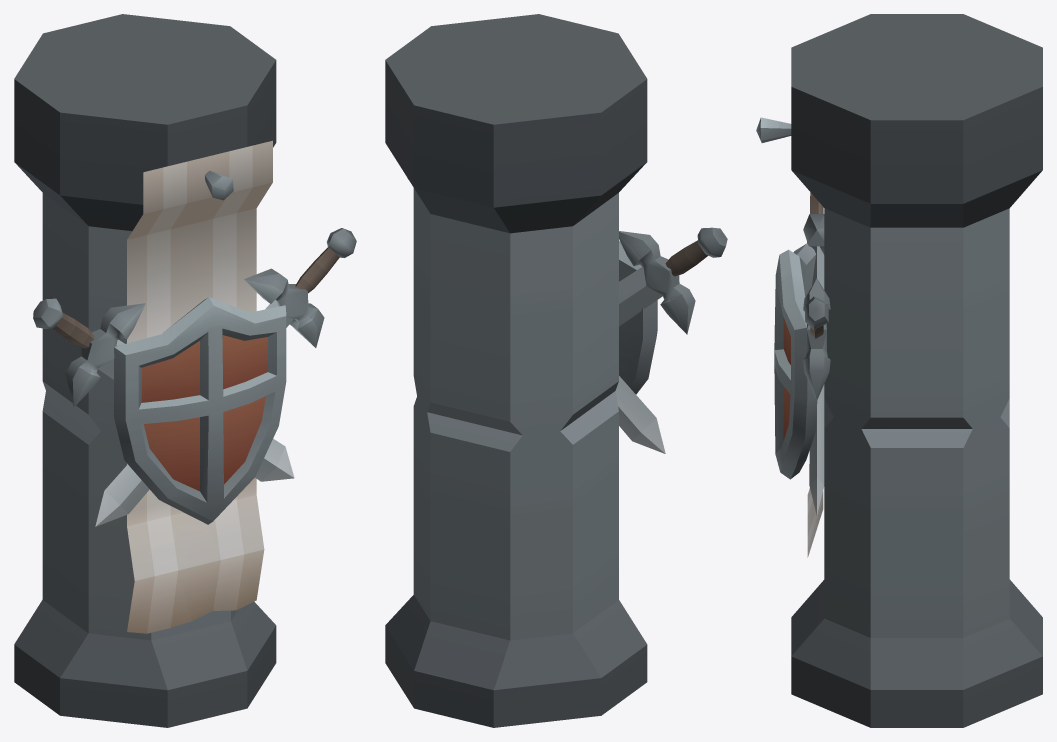
Rendered from pillar_decorated.glb.
3 renders of one model, left to right at view 1: azimuth 30°, elevation 25°; view 2: azimuth 150°, elevation 25°; view 3: azimuth 270°, elevation 25°, orthographic.
Visible parts, largest first — view 1: pillar_decorated; view 2: pillar_decorated; view 3: pillar_decorated.
Part boxes in pixels (x1,y1,x2,y2): pillar_decorated: [14, 14, 356, 727]; pillar_decorated: [385, 14, 727, 727]; pillar_decorated: [756, 14, 1042, 727].
Bounding box in the file's own units: 2.23 × 4 × 1.71.
1 material, 1 textured.
